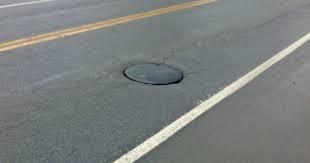closed manhole-not overflowing-: (121, 56, 181, 88)
